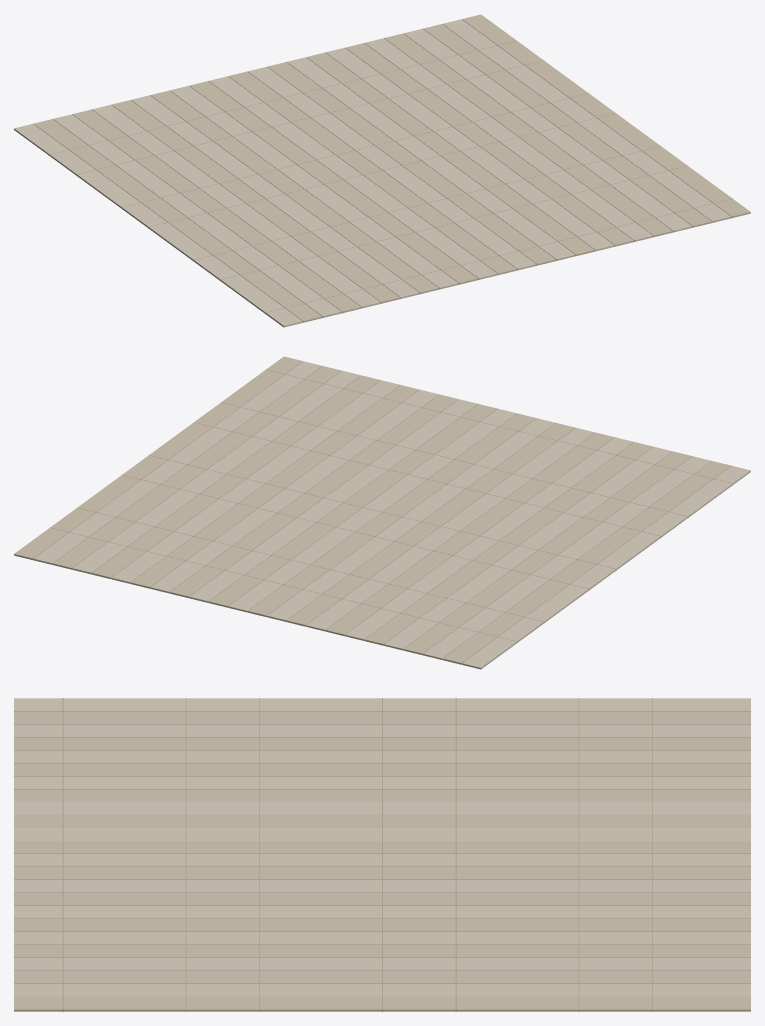
Rendered from home_floor_boards__birch.glb.
3 views of the same model, one above another, from view 1: azimuth 30°, elevation 25°; view 2: azimuth 150°, elevation 25°; view 3: azimuth 270°, elevation 25° (orthographic). The views are drawn at different scales.
Bounding box in the file's own units: 12 × 0.0419 × 12.
